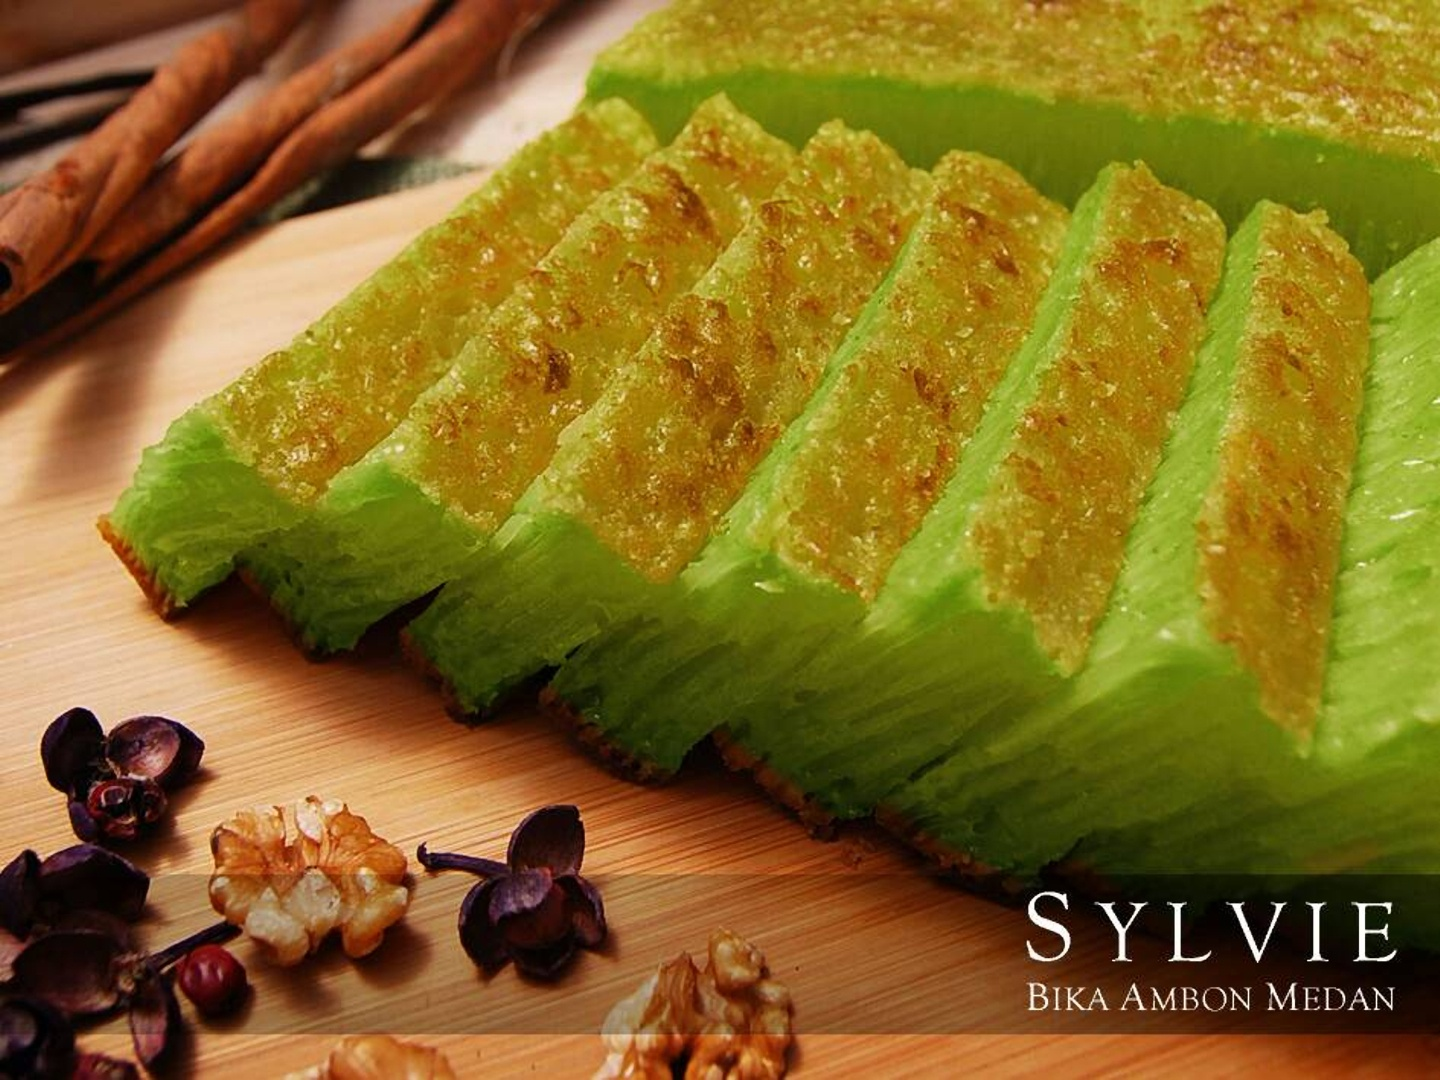bika_ambon: (164, 106, 1401, 828)
